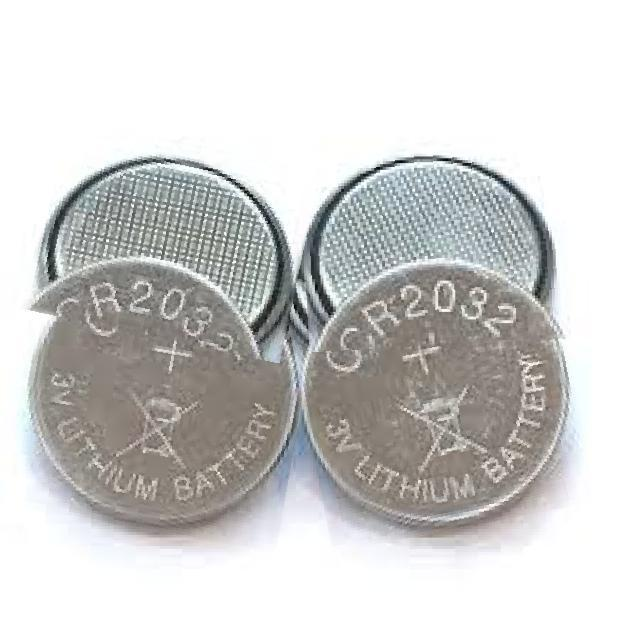Battery: (301, 268, 589, 528), (26, 279, 314, 526), (21, 131, 301, 382), (284, 138, 590, 334)
